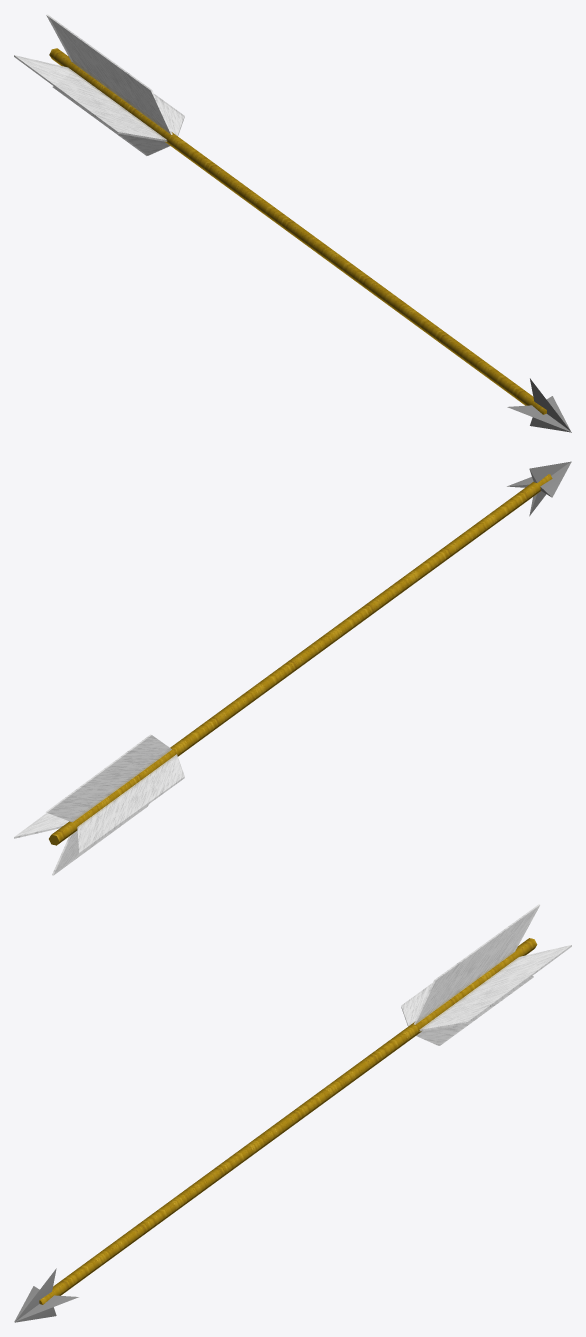
File: Aroow.FBX
The picture shows the model from 3 angles, top to bottom: view 1: azimuth 30°, elevation 25°; view 2: azimuth 150°, elevation 25°; view 3: azimuth 330°, elevation 25°; orthographic projection.
Visible parts, largest first — view 1: m_shaft, m_tfeather, m_lfeather, m_bfeather, m_vbroadhead, m_hbroadhead; view 2: m_shaft, m_tfeather, m_lfeather, m_bfeather, m_rfeather, m_vbroadhead, m_hbroadhead; view 3: m_shaft, m_tfeather, m_rfeather, m_bfeather, m_vbroadhead, m_hbroadhead, m_lfeather.
Part boxes in pixels (x1=…): m_shaft: x1=49, y1=48, x2=546, y2=414; m_tfeather: x1=46, y1=14, x2=172, y2=134; m_lfeather: x1=14, y1=55, x2=167, y2=141; m_bfeather: x1=52, y1=86, x2=169, y2=155; m_vbroadhead: x1=530, y1=378, x2=571, y2=432; m_hbroadhead: x1=507, y1=396, x2=570, y2=431; m_shaft: x1=49, y1=474, x2=552, y2=845; m_tfeather: x1=45, y1=734, x2=171, y2=822; m_lfeather: x1=77, y1=754, x2=184, y2=854; m_bfeather: x1=52, y1=804, x2=148, y2=875; m_rfeather: x1=14, y1=813, x2=68, y2=838; m_vbroadhead: x1=529, y1=461, x2=570, y2=516; m_hbroadhead: x1=507, y1=461, x2=571, y2=497; m_shaft: x1=39, y1=938, x2=537, y2=1304; m_tfeather: x1=413, y1=904, x2=539, y2=1024; m_rfeather: x1=419, y1=945, x2=571, y2=1031; m_bfeather: x1=416, y1=976, x2=533, y2=1045; m_vbroadhead: x1=15, y1=1268, x2=56, y2=1322; m_hbroadhead: x1=14, y1=1286, x2=78, y2=1321; m_lfeather: x1=401, y1=983, x2=432, y2=1026.
Size of the model in its own units: 2.5 by 34.05 by 2.45.
3 materials, 2 textured.
